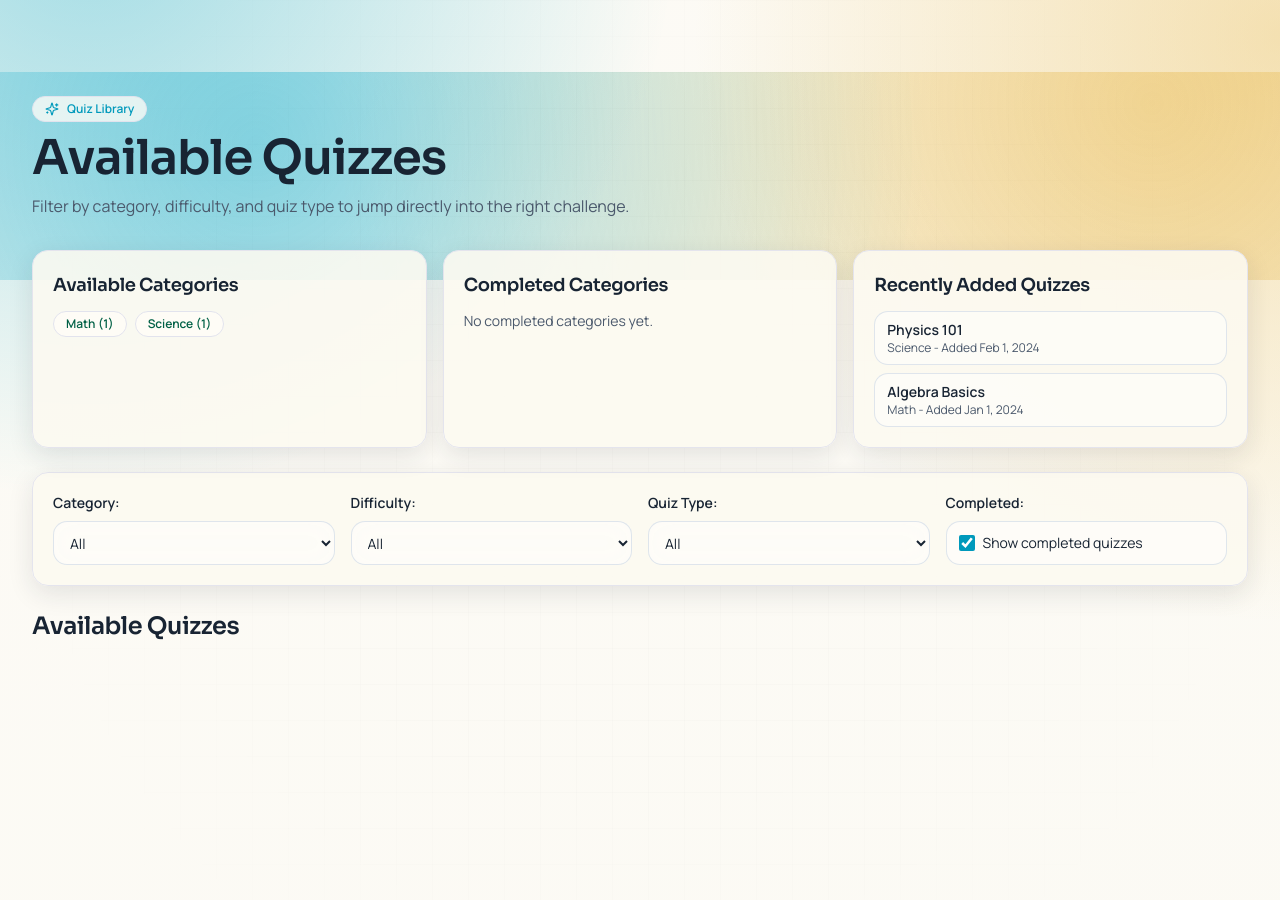
Test: HomeClient › filters quizzes by category
Select "Math" in the dropdown labelled "Category:" at (194, 543), box [53, 521, 334, 565]
(page scrolled)
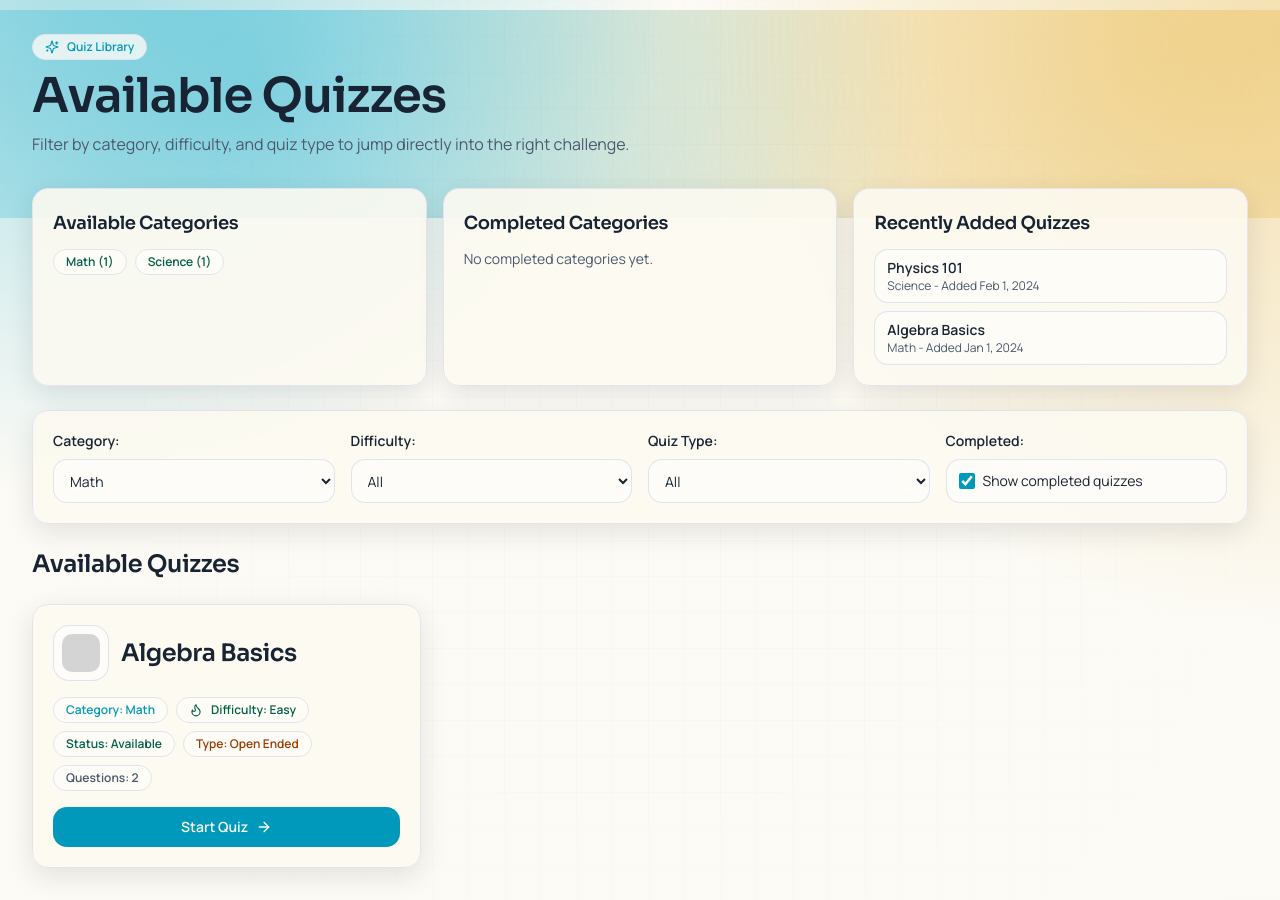
Expected: the link to "/playme/1" is shown, [53, 807, 400, 847]
